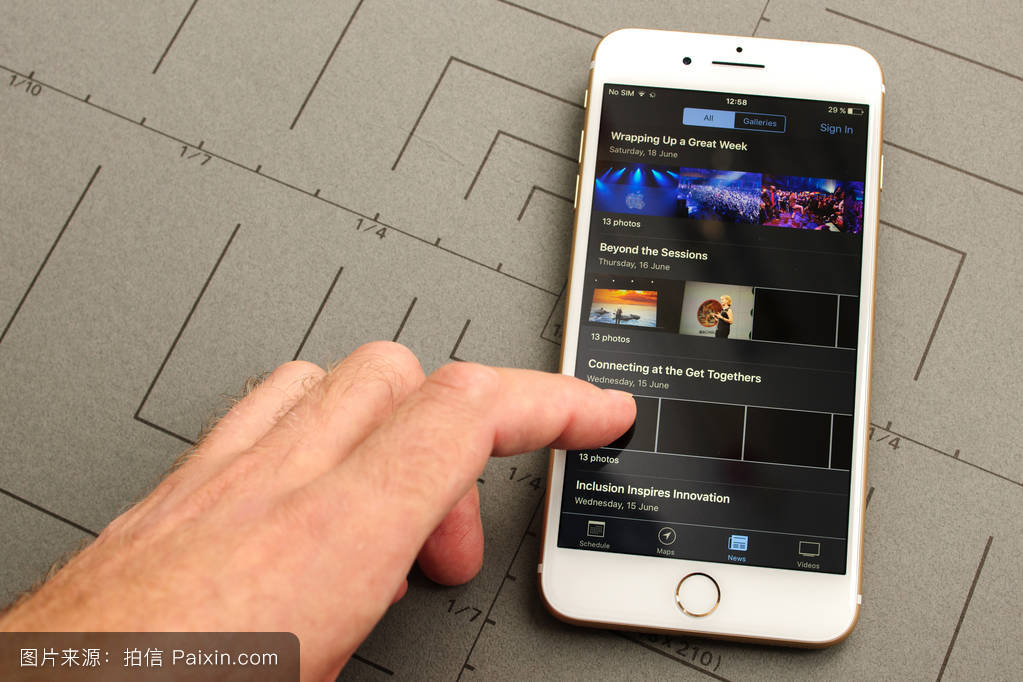phone: (577, 24, 865, 650)
